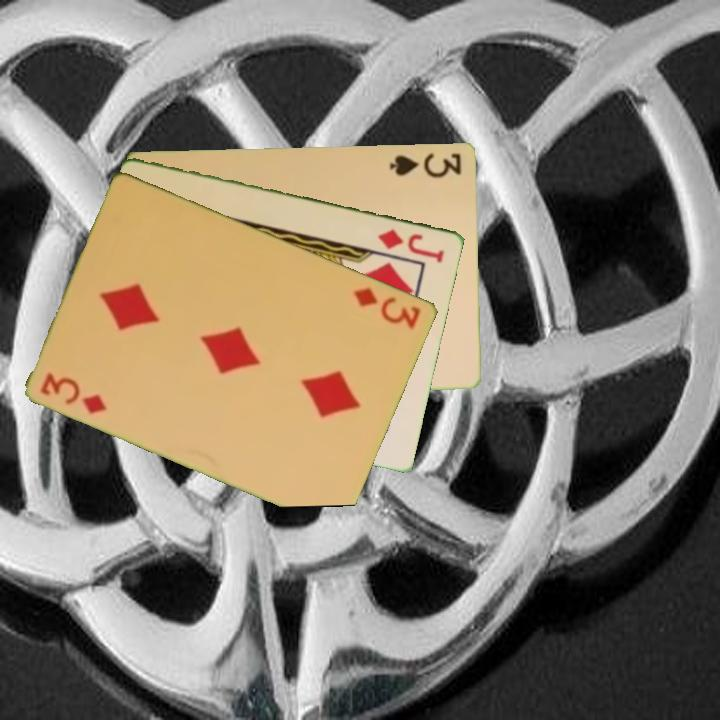3d: (350, 283, 424, 332), (37, 369, 111, 417)
3s: (387, 149, 465, 180)
Jd: (374, 225, 448, 266)
